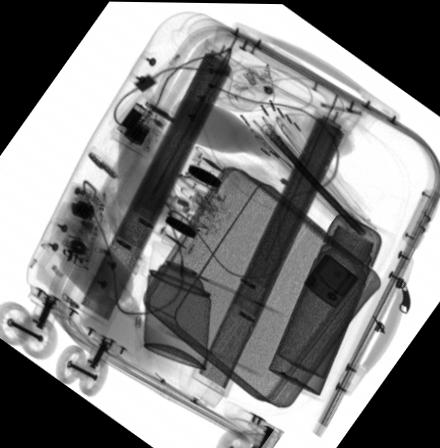Lighter: (304, 251, 359, 307)
Sprayer: (144, 238, 215, 368)
